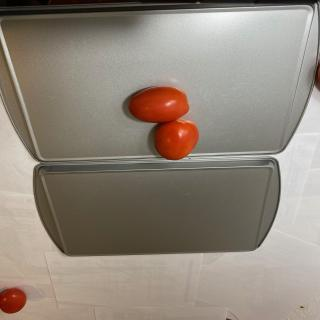Chilli: (128, 85, 200, 160)
Tomato: (128, 85, 190, 123), (154, 119, 199, 160), (0, 288, 27, 314)
